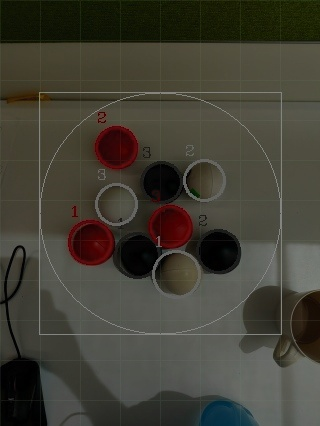Pelota blanca: (151, 249, 203, 296), (289, 289, 320, 365), (92, 180, 139, 227), (180, 158, 227, 203), (241, 284, 281, 336), (271, 334, 299, 368), (55, 411, 97, 425)
Pelota negra: (0, 358, 46, 425), (113, 230, 158, 280), (196, 228, 243, 275), (137, 158, 182, 203), (199, 398, 259, 425)
Pelota roja: (66, 217, 115, 267), (92, 124, 139, 171), (145, 204, 193, 248)
